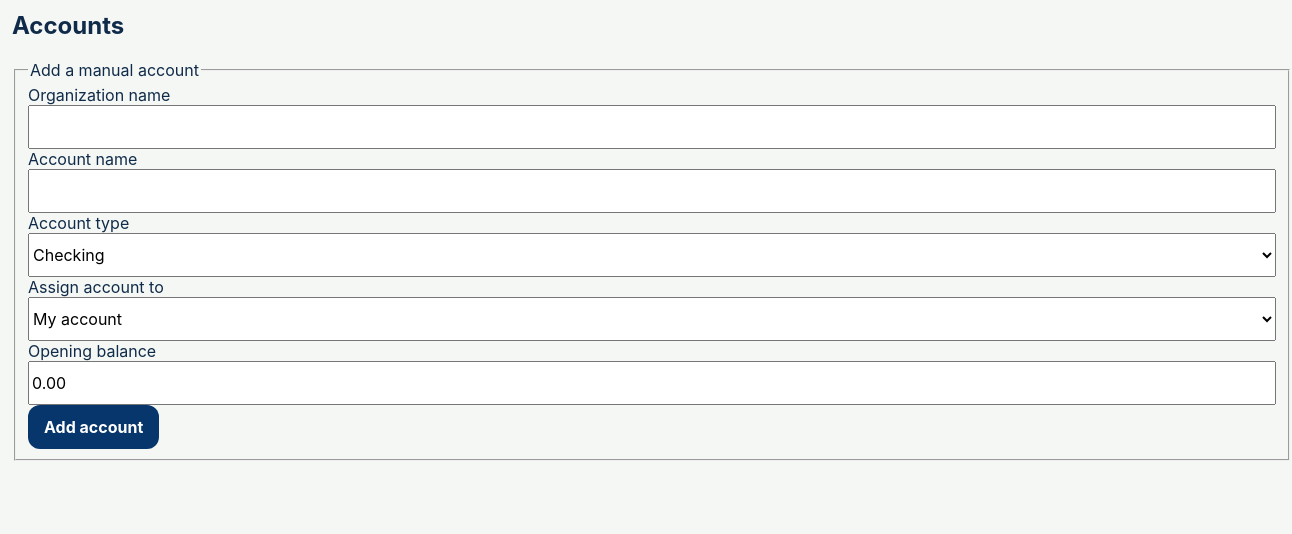
Test: handles exact decimal account entry: 1.001
The width and height of the screenshot is (1292, 534).
Type "Bank" into the field labelled "Organization name" at (652, 127), box [28,105,1276,149]
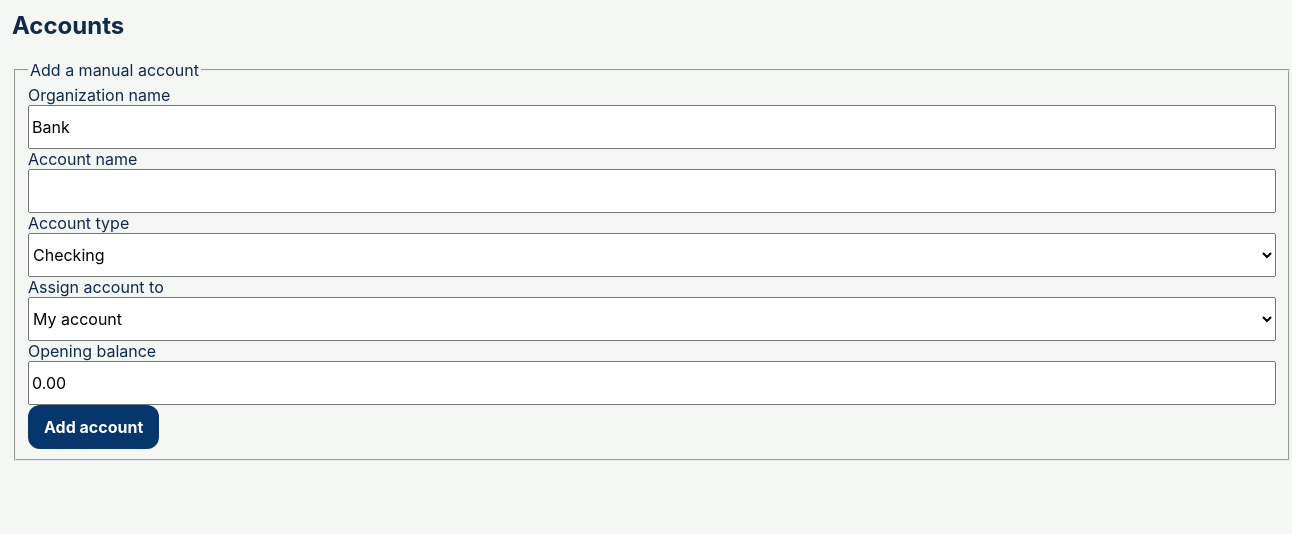
Type "Checking" into the field labelled "Account name" at (652, 191), box [28,169,1276,213]
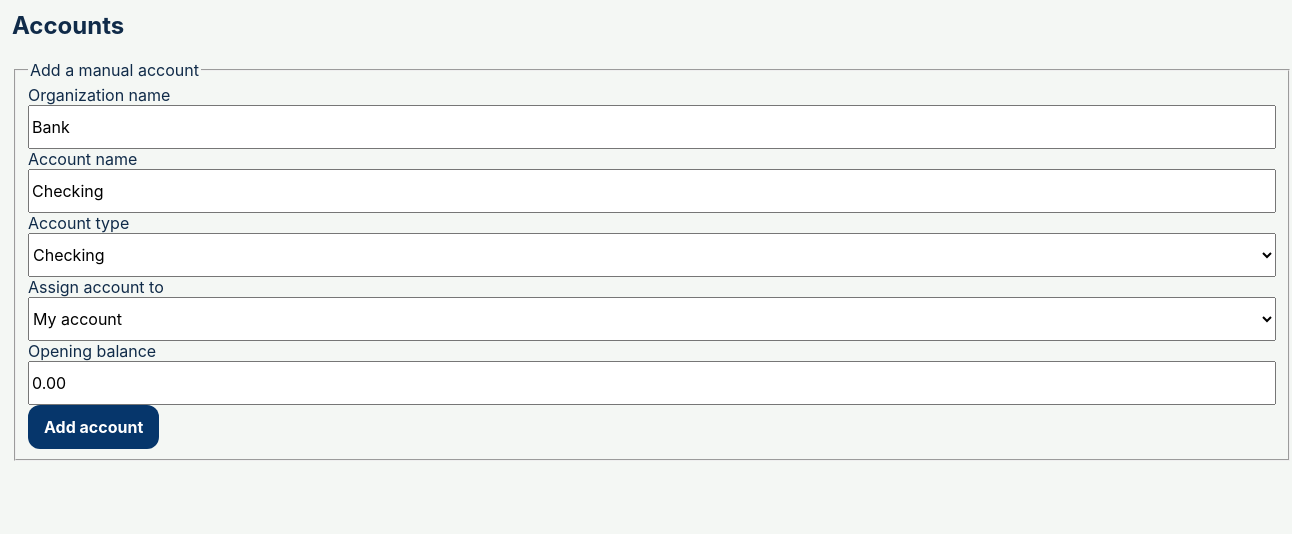
Replace the text in the field labelled "Opening balance" with "1.001" at (652, 383), box [28,361,1276,405]
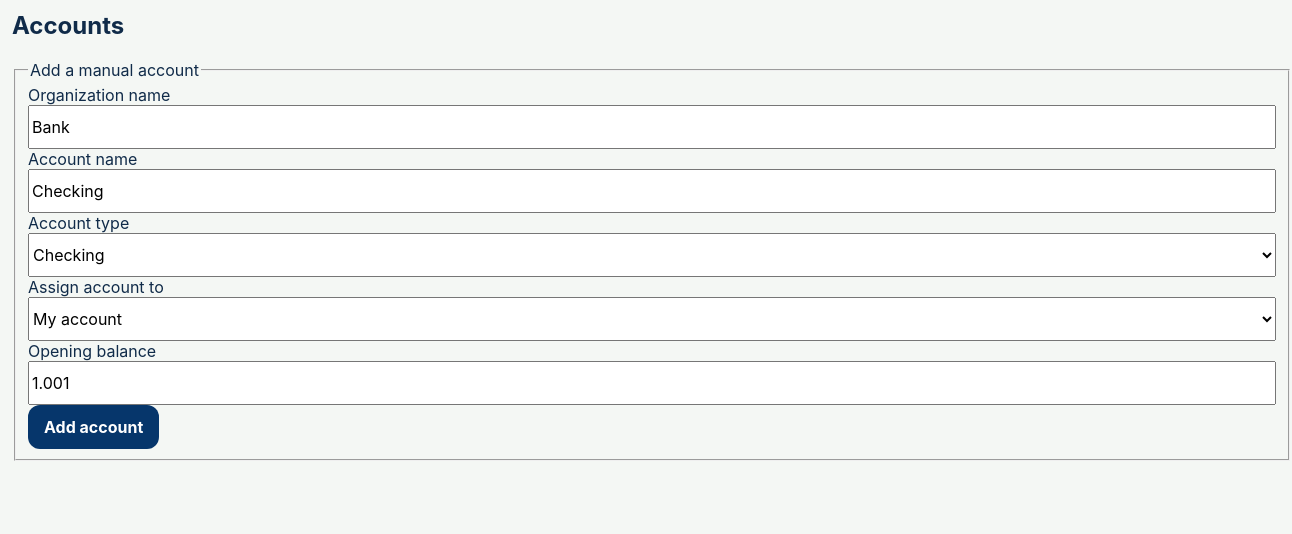
Submit the form labelled "Organization name"
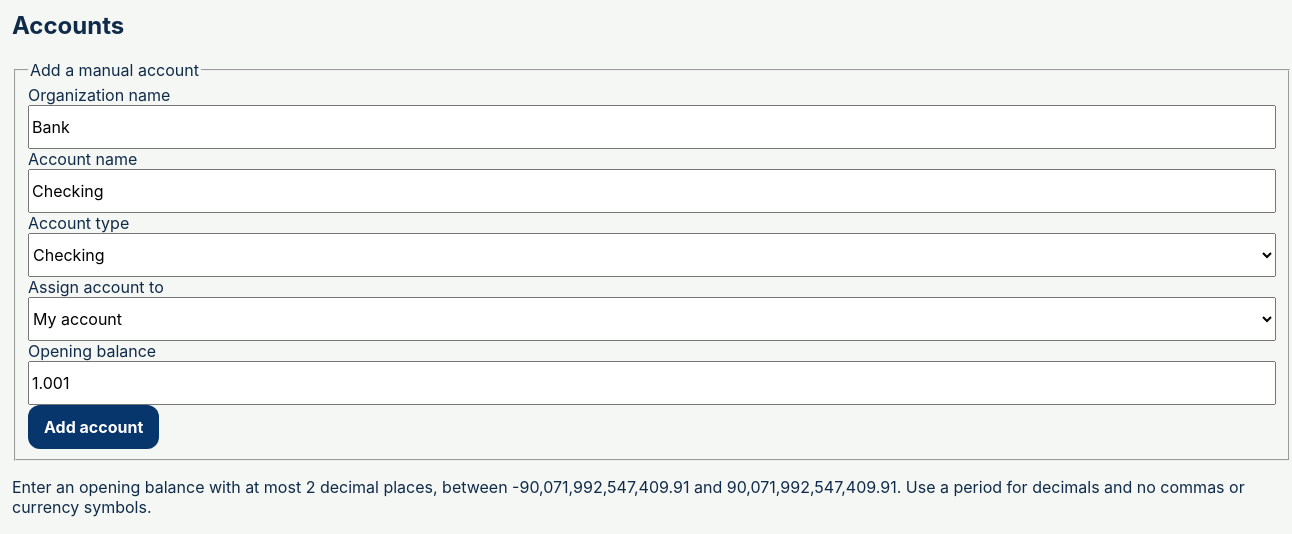
Check: the message shows "at most 2 decimal places", box [12,477,1245,517]
Check: the message shows "90,071,992,547,409.91", box [12,477,1245,517]
